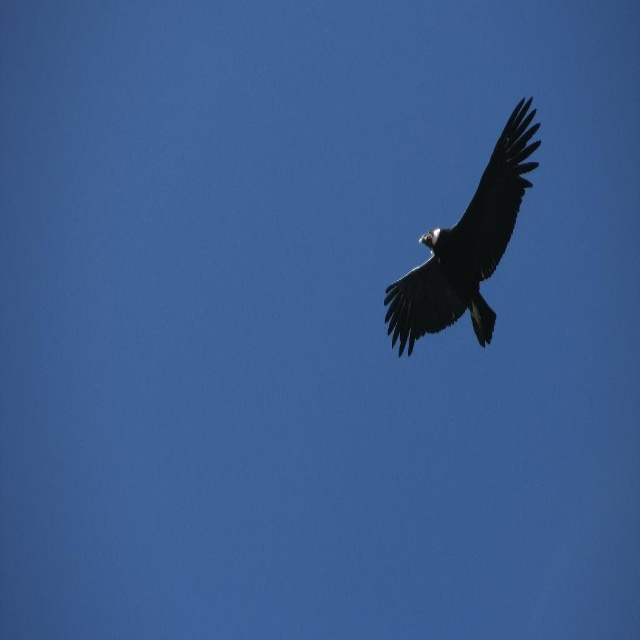Eagle: (383, 96, 542, 358)
